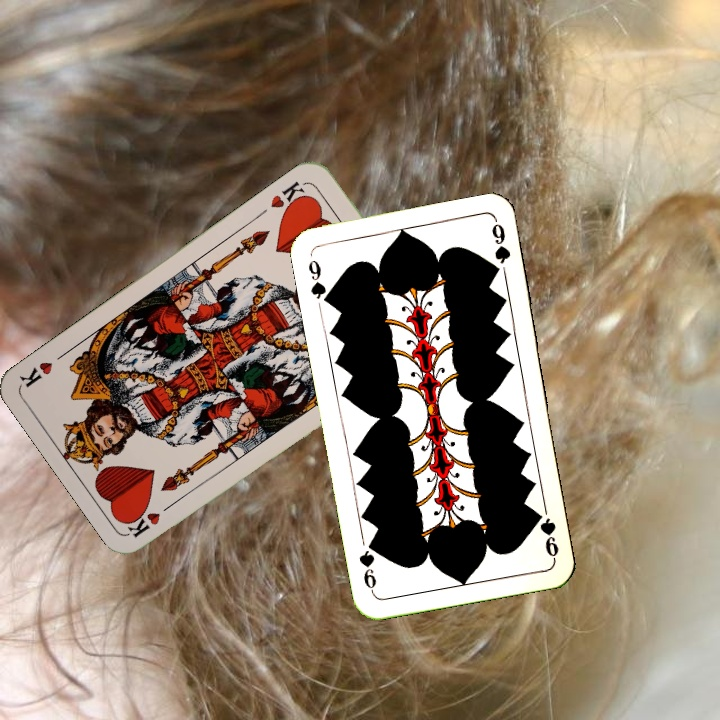G9: (304, 255, 334, 308), (533, 508, 561, 562)
HK: (124, 497, 179, 540), (266, 177, 311, 216)
